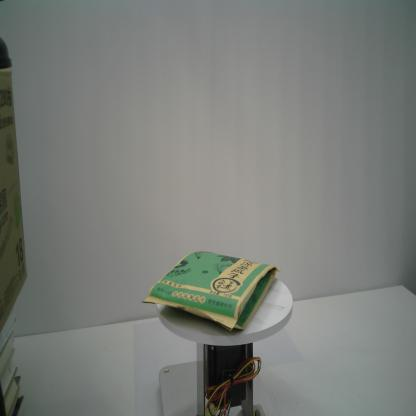Dried Food: (140, 249, 282, 332)
